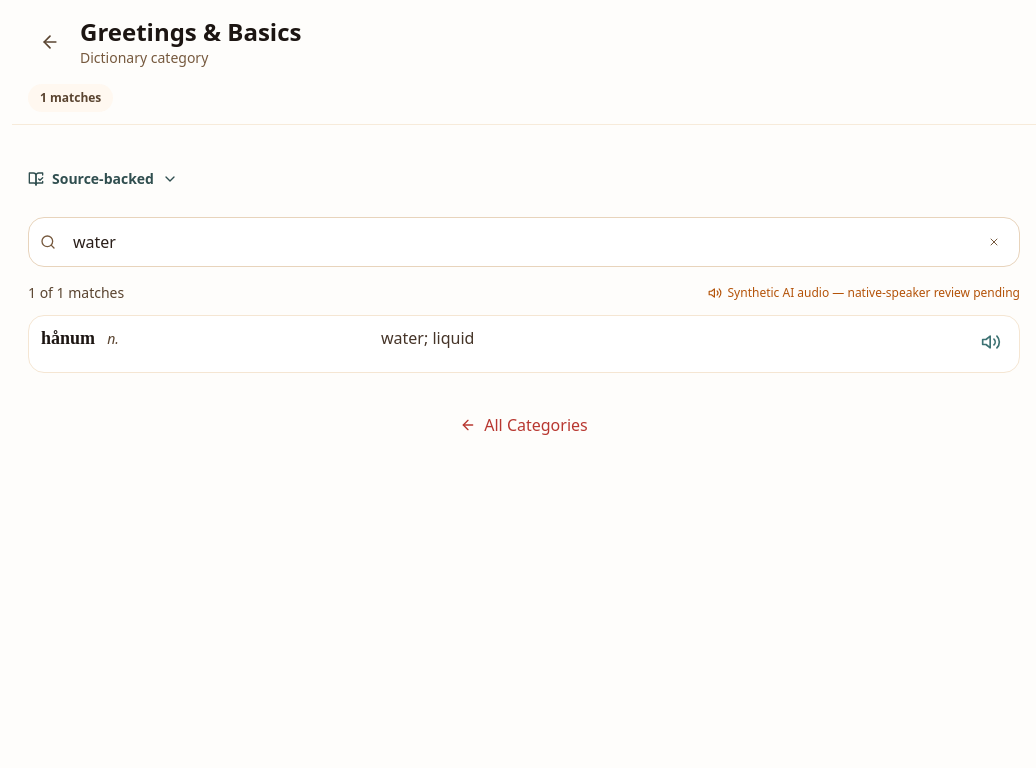
Test: stable vocabulary records › links category words to the same record with a category return path
The width and height of the screenshot is (1036, 768).
expect the field named "Search in Greetings & Basics" holds "water": met, box [28,217,1020,267]
Click the button named "Clear category search": point(994, 242) [974,222,1014,262]
(page scrolled)
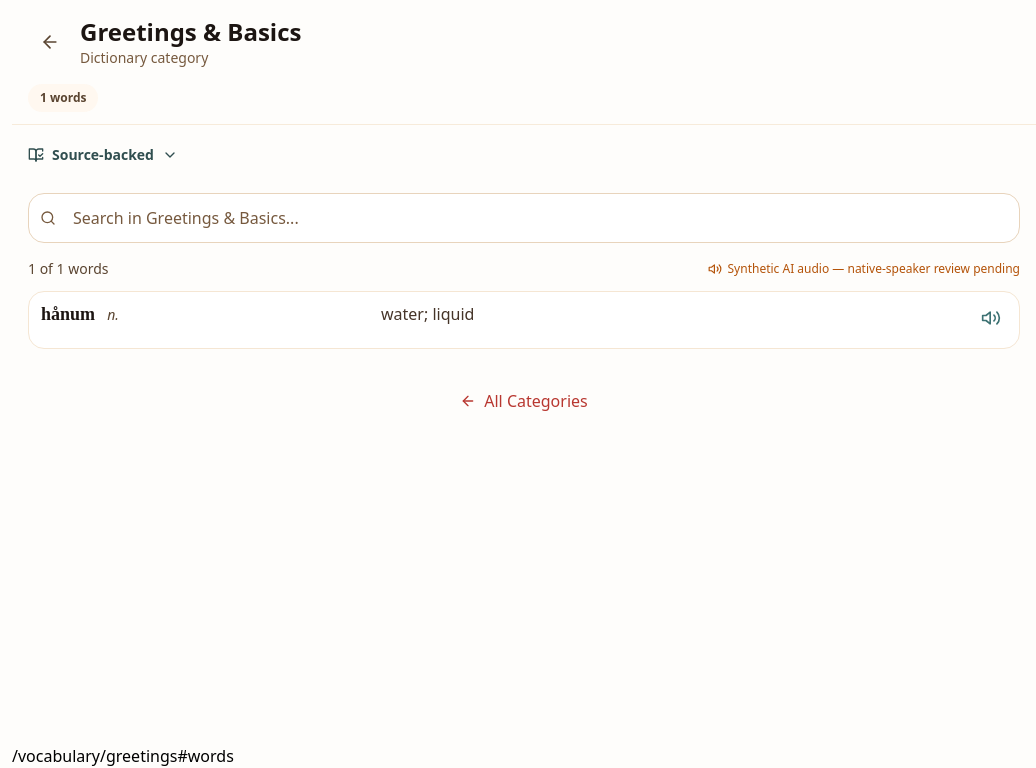
expect the text with test id "location" reads "/vocabulary/greetings#words": met, box [12,745,234,767]
